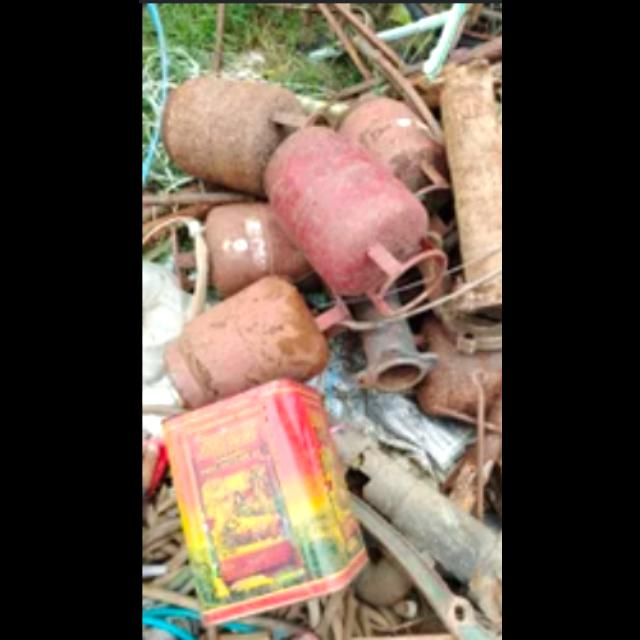Cylinders: (266, 120, 465, 328), (160, 276, 338, 405)
